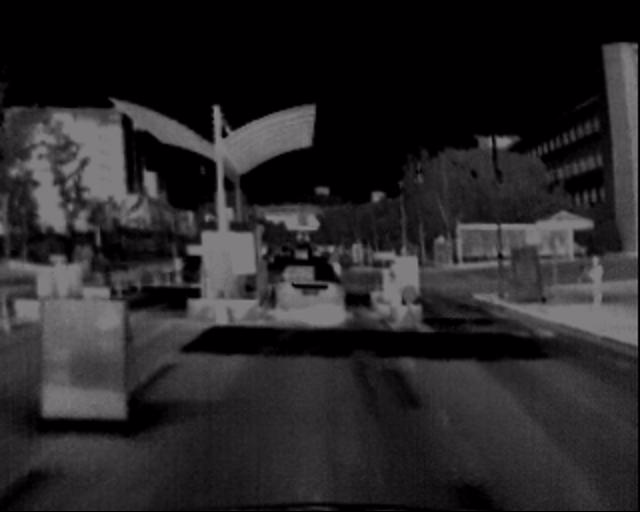person: (582, 242, 610, 313)
